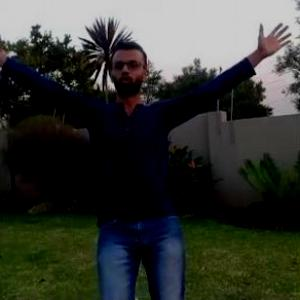takeoff: (1, 29, 291, 299)
